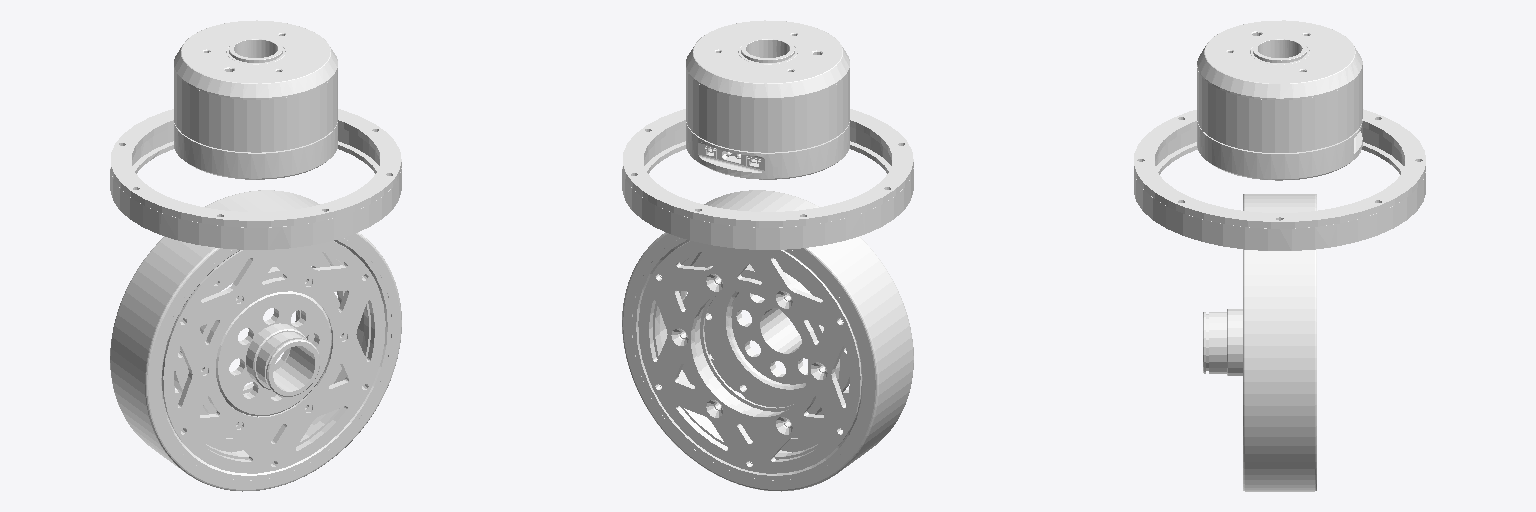
The robot description file, URDF, robot "dlbb_urdf":
<?xml version="1.0" encoding="utf-8"?>
<!--
This URDF was automatically created by SolidWorks to URDF Exporter! Originally created by [author] ([email redacted])
Commit Version: 1.6.0-4-g7f85cfe  Build Version: 1.6.7995.38578
For more information, please see http://wiki.ros.org/sw_urdf_exporter
-->
<robot name="dlbb_urdf">
	<link name="wheel_trunk">
		<inertial>
			<origin xyz="3.82E-06 -0.00010936 0.01801333" rpy="0 0 0" />
			<mass value="0.5482373" />
			<inertia ixx="0.00038308" ixy="2E-08" ixz="-1.1E-07" iyy="0.00038463" iyz="-7.2E-07" izz="0.00050223" />
		</inertial>
		<visual>
			<origin xyz="0 0 0" rpy="0 0 0" />
			<geometry>
				<mesh filename="package://dlbb_urdf/meshes/wheel_trunk.STL" />
			</geometry>
			<material name="">
				<color rgba="1 1 1 1" />
			</material>
		</visual>
		<collision>
			<origin xyz="0 0 0" rpy="0 0 0" />
			<geometry>
				<mesh filename="package://dlbb_urdf/meshes/wheel_trunk.STL" />
			</geometry>
		</collision>
	</link>
	<link name="hang_link">
		<inertial>
			<origin xyz="-2.418E-05 0.01858581 -0.0696739" rpy="0 0 0" />
			<mass value="0.56375773" />
			<inertia ixx="0.00103776" ixy="-1E-08" ixz="1.24E-06" iyy="0.00084525" iyz="0.00016779" izz="0.0004064" />
		</inertial>
		<visual>
			<origin xyz="0 0 0" rpy="0 0 0" />
			<geometry>
				<mesh filename="package://dlbb_urdf/meshes/hang_link.STL" />
			</geometry>
			<material name="">
				<color rgba="0.89804 0.91765 0.92941 1" />
			</material>
		</visual>
		<collision>
			<origin xyz="0 0 0" rpy="0 0 0" />
			<geometry>
				<mesh filename="package://dlbb_urdf/meshes/hang_link.STL" />
			</geometry>
		</collision>
	</link>
	<joint name="hang_joint" type="continuous">
		<origin xyz="0 0 0.087" rpy="0 0 0" />
		<parent link="wheel_trunk" />
		<child link="hang_link" />
		<axis xyz="0 0 1" />
		<limit effort="1.2" velocity="14" />
	</joint>
	<link name="dong_link">
		<inertial>
			<origin xyz="0 -0.00130014 0" rpy="0 0 0" />
			<mass value="0.30920252" />
			<inertia ixx="0.00036765" ixy="0" ixz="0" iyy="0.00066439" iyz="0" izz="0.00036765" />
		</inertial>
		<visual>
			<origin xyz="0 0 0" rpy="0 0 0" />
			<geometry>
				<mesh filename="package://dlbb_urdf/meshes/dong_link.STL" />
			</geometry>
			<material name="">
				<color rgba="1 1 1 1" />
			</material>
		</visual>
		<collision>
			<origin xyz="0 0 0" rpy="0 0 0" />
			<geometry>
				<mesh filename="package://dlbb_urdf/meshes/dong_link.STL" />
			</geometry>
		</collision>
	</link>
	<joint name="dong_joint" type="continuous">
		<origin xyz="0 0 -0.087" rpy="0 0 0" />
		<parent link="hang_link" />
		<child link="dong_link" />
		<axis xyz="0 1 0" />
		<limit effort="3" velocity="50" />
	</joint>
</robot>

--- Render facts (derived) ---
3 views of the same robot in one strip: view 1: azimuth 30°, elevation 25°; view 2: azimuth 150°, elevation 25°; view 3: azimuth 270°, elevation 25° (orthographic).
Model dlbb_urdf with 3 links and 2 joints (2 continuous), rooted at wheel_trunk, posed every joint at zero.
Links seen in each view (by area): view 1: dong_link, wheel_trunk; view 2: dong_link, wheel_trunk; view 3: wheel_trunk, dong_link.
Boxes of the visible links, x1=… form: dong_link: x1=110, y1=190, x2=401, y2=491; wheel_trunk: x1=110, y1=20, x2=401, y2=249; dong_link: x1=622, y1=190, x2=913, y2=491; wheel_trunk: x1=622, y1=20, x2=913, y2=249; wheel_trunk: x1=1134, y1=20, x2=1425, y2=250; dong_link: x1=1203, y1=194, x2=1316, y2=491.
Bounding box of the posed robot: 0.12 × 0.1179 × 0.1905 m (x, y, z).
2 mesh visuals loaded from 3 distinct referenced files (2 binary STL); not drawn: 1 (reference not matched to a file when rendering).
